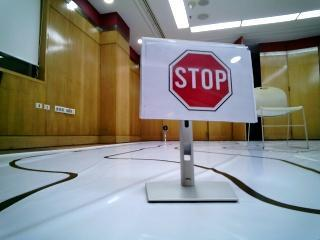stop: (149, 40, 250, 120)
